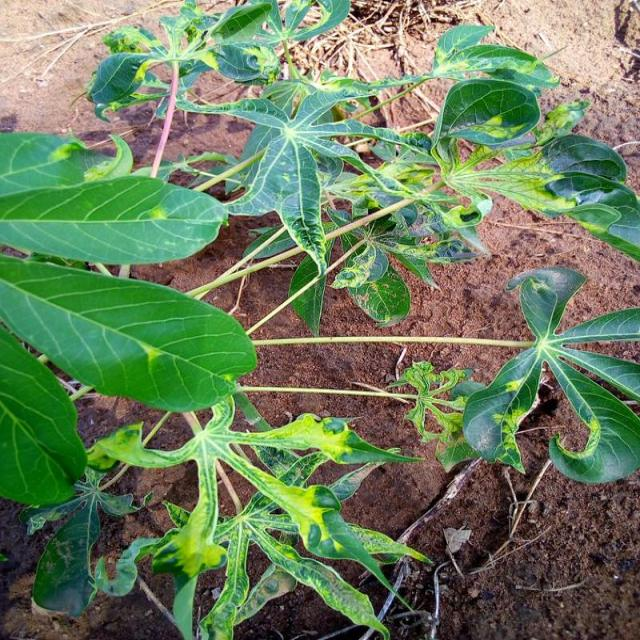cassava leaf: (0, 254, 258, 413), (460, 265, 638, 483), (0, 172, 228, 266), (430, 77, 540, 151)
